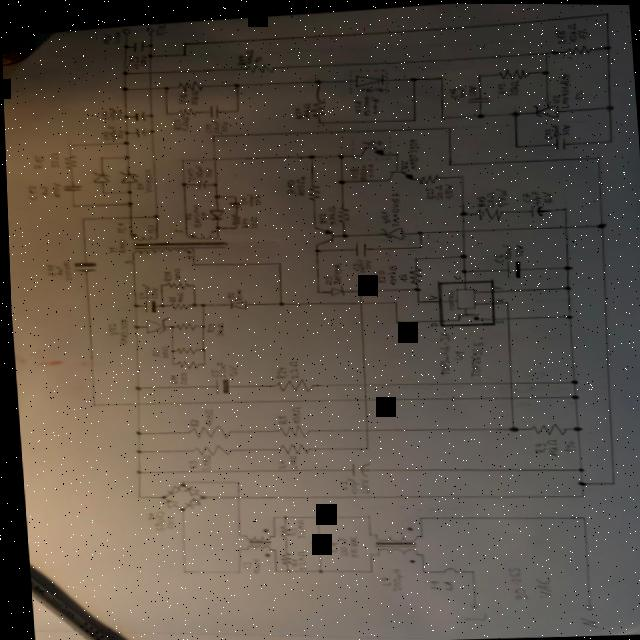capacitor: (343, 460, 366, 479), (70, 259, 98, 273), (208, 377, 228, 395), (501, 257, 519, 277), (350, 241, 366, 257), (140, 298, 155, 313), (305, 538, 323, 549), (551, 136, 566, 149), (59, 182, 80, 191), (131, 39, 145, 52), (464, 95, 490, 102), (526, 204, 541, 216), (206, 103, 218, 117), (132, 126, 146, 137), (131, 110, 145, 120), (194, 179, 205, 189), (225, 201, 239, 207)
crossover: (144, 84, 153, 90), (502, 378, 511, 384), (230, 493, 238, 499), (130, 400, 138, 406), (456, 227, 464, 233), (503, 393, 511, 399), (356, 396, 365, 401), (144, 69, 153, 74), (209, 155, 216, 161), (559, 222, 566, 228), (353, 300, 361, 305), (501, 314, 509, 319), (358, 426, 365, 431), (357, 381, 364, 386), (124, 214, 131, 219)
diode: (141, 315, 167, 334), (376, 225, 402, 240), (88, 170, 109, 184), (117, 169, 137, 183), (226, 297, 244, 310), (178, 496, 196, 508), (179, 483, 195, 496), (206, 208, 223, 220), (326, 284, 342, 296), (158, 497, 174, 508), (163, 485, 177, 495)
junction: (508, 108, 520, 116), (503, 423, 515, 431), (592, 220, 605, 227), (571, 478, 583, 485), (601, 103, 613, 110), (565, 392, 576, 399), (567, 423, 578, 430), (454, 252, 466, 258), (564, 377, 575, 383), (334, 178, 344, 184), (456, 210, 466, 216), (560, 263, 570, 269), (474, 112, 484, 118), (455, 267, 465, 273), (230, 81, 240, 87), (601, 43, 611, 49), (561, 312, 570, 318), (560, 283, 569, 289), (311, 78, 320, 84), (413, 229, 422, 235), (539, 69, 549, 74), (409, 286, 419, 291), (120, 154, 130, 159), (406, 75, 416, 80), (571, 466, 581, 471), (605, 137, 613, 143), (130, 429, 138, 435), (121, 42, 129, 48), (338, 231, 346, 237), (311, 567, 319, 573), (334, 153, 343, 158), (119, 86, 128, 91), (305, 153, 314, 158), (129, 385, 138, 390), (362, 568, 371, 573), (229, 568, 238, 573), (123, 200, 131, 205), (149, 213, 157, 218), (274, 301, 282, 306), (130, 469, 138, 474), (119, 70, 127, 75), (161, 85, 169, 90), (353, 288, 361, 293), (604, 479, 612, 484), (130, 448, 138, 453), (210, 194, 218, 199), (120, 140, 128, 145), (123, 189, 131, 194), (129, 302, 137, 307), (77, 216, 85, 221), (209, 181, 217, 186), (309, 514, 317, 519), (194, 494, 202, 499), (358, 445, 367, 449), (129, 324, 138, 328), (178, 181, 185, 186), (575, 513, 582, 518), (415, 568, 422, 573), (98, 189, 105, 194), (146, 128, 153, 133), (174, 506, 181, 511), (412, 515, 420, 519), (436, 115, 444, 119), (360, 514, 368, 518), (67, 203, 75, 207), (411, 299, 419, 303), (463, 569, 471, 573), (314, 119, 322, 123), (310, 248, 318, 252), (408, 117, 416, 121), (174, 482, 182, 486), (121, 113, 127, 118), (146, 52, 152, 57), (147, 42, 153, 47), (197, 302, 203, 307), (475, 72, 482, 76), (511, 143, 518, 147), (602, 11, 609, 15), (443, 125, 450, 129), (456, 174, 463, 178), (175, 568, 182, 572), (64, 142, 71, 146), (180, 52, 187, 56), (96, 155, 103, 159), (177, 158, 184, 162), (232, 108, 239, 112), (87, 402, 94, 406), (196, 347, 203, 351), (389, 300, 396, 304), (279, 568, 286, 572), (230, 479, 237, 483), (362, 551, 369, 555), (361, 531, 368, 535), (231, 545, 238, 549), (549, 49, 556, 53), (180, 41, 186, 45), (188, 262, 194, 266), (437, 75, 443, 79), (274, 260, 280, 264), (278, 514, 284, 518), (559, 206, 565, 210), (593, 155, 599, 159), (410, 255, 416, 259), (390, 319, 396, 323), (415, 244, 421, 248), (445, 161, 451, 165), (131, 494, 137, 498), (312, 289, 318, 293), (162, 111, 168, 115), (122, 130, 128, 134), (146, 113, 152, 117), (209, 133, 215, 137), (574, 492, 580, 496), (229, 193, 235, 197), (155, 494, 161, 498), (196, 323, 202, 327), (188, 302, 194, 306), (156, 303, 162, 307), (541, 50, 547, 54), (212, 225, 218, 229), (232, 532, 238, 536), (165, 324, 171, 328), (391, 151, 397, 155), (266, 514, 271, 518), (502, 299, 507, 303), (175, 479, 181, 482), (166, 361, 172, 364), (413, 533, 419, 536), (268, 568, 274, 571), (266, 547, 272, 550), (156, 283, 160, 287), (167, 348, 171, 352), (187, 284, 192, 287), (230, 225, 235, 228), (414, 552, 419, 555), (198, 362, 202, 365), (267, 533, 271, 536)
resistor: (182, 423, 229, 439), (269, 378, 311, 393), (524, 421, 564, 435), (186, 443, 229, 456), (270, 441, 307, 454), (271, 424, 308, 437), (495, 66, 529, 79), (474, 206, 503, 220), (173, 79, 203, 92), (244, 62, 275, 74), (308, 97, 325, 117), (561, 43, 591, 54), (414, 172, 438, 184), (172, 358, 197, 369), (405, 266, 420, 284), (304, 182, 319, 200), (333, 205, 348, 222), (172, 320, 195, 331), (60, 154, 76, 169), (273, 550, 287, 565), (172, 345, 194, 354), (176, 107, 195, 117), (275, 524, 287, 538), (167, 301, 185, 310), (165, 281, 185, 289), (228, 213, 239, 225)
terminal: (461, 600, 476, 608), (577, 602, 589, 609), (119, 27, 129, 34), (143, 26, 153, 33)
text: (432, 329, 451, 375), (501, 564, 524, 600), (463, 340, 483, 377), (556, 71, 571, 107), (386, 191, 400, 225), (528, 574, 548, 597), (404, 138, 418, 169), (384, 566, 400, 590), (147, 509, 162, 531), (114, 317, 126, 344), (328, 261, 342, 283), (383, 264, 397, 285), (140, 168, 152, 192), (540, 438, 556, 456), (188, 203, 200, 227), (492, 186, 507, 205), (457, 610, 482, 621), (573, 615, 594, 628), (198, 408, 213, 426), (283, 359, 297, 378), (343, 535, 355, 557), (289, 518, 302, 538), (552, 27, 568, 43), (333, 535, 345, 556), (360, 93, 371, 115), (293, 175, 305, 195), (59, 259, 71, 279), (290, 549, 302, 569), (46, 150, 59, 168), (566, 21, 577, 42), (286, 405, 298, 424), (323, 205, 335, 224), (30, 154, 45, 169), (195, 454, 209, 470), (498, 242, 512, 258), (342, 476, 356, 492), (24, 184, 37, 201), (558, 439, 573, 453), (112, 237, 126, 252), (371, 267, 384, 283), (506, 78, 519, 94), (355, 477, 368, 493), (212, 360, 224, 377), (444, 289, 453, 311), (244, 558, 257, 573), (282, 178, 295, 193), (49, 182, 61, 198), (104, 322, 117, 336), (528, 440, 543, 452), (441, 182, 452, 198), (178, 116, 189, 132), (300, 101, 310, 118), (356, 162, 366, 179), (510, 242, 522, 256), (528, 189, 540, 203), (284, 454, 295, 469), (243, 48, 254, 63), (106, 124, 116, 140), (432, 183, 442, 199), (139, 282, 149, 298), (369, 97, 379, 113), (271, 365, 283, 378), (539, 190, 551, 203), (473, 193, 485, 206), (571, 88, 584, 100), (377, 209, 389, 222), (153, 23, 166, 35), (223, 363, 235, 376), (37, 183, 49, 196), (110, 30, 121, 44), (272, 413, 286, 424), (175, 370, 185, 385), (494, 81, 506, 93), (483, 190, 492, 206), (518, 190, 530, 202), (576, 26, 588, 38), (437, 579, 450, 590), (193, 165, 204, 178), (351, 99, 362, 112), (161, 514, 171, 528), (448, 349, 462, 359), (188, 90, 198, 104), (212, 321, 222, 335), (422, 186, 433, 198), (100, 32, 111, 44), (175, 93, 187, 104), (169, 118, 181, 129), (347, 166, 358, 178), (423, 578, 436, 588), (247, 215, 257, 228), (550, 122, 559, 136), (170, 266, 179, 280), (364, 163, 373, 177), (465, 84, 476, 95), (446, 87, 457, 98), (159, 270, 170, 281), (237, 216, 248, 227), (114, 221, 124, 233), (559, 123, 569, 135), (374, 575, 386, 585), (183, 458, 195, 468), (184, 168, 194, 180), (315, 211, 325, 223), (490, 252, 502, 262), (44, 263, 54, 275), (292, 106, 302, 118), (107, 107, 115, 121), (354, 258, 362, 272), (132, 55, 140, 69), (158, 345, 166, 359), (541, 127, 551, 138), (455, 85, 465, 96), (273, 459, 284, 469), (334, 478, 344, 489), (165, 372, 175, 383), (202, 322, 213, 332), (185, 417, 197, 426), (232, 287, 241, 299), (148, 286, 157, 298), (550, 93, 560, 103), (324, 541, 334, 551), (143, 223, 153, 233), (99, 130, 109, 140), (218, 121, 228, 131), (236, 54, 246, 64), (173, 291, 182, 302), (147, 347, 158, 356), (236, 560, 247, 569), (126, 54, 134, 66), (245, 193, 253, 205), (252, 192, 260, 204), (98, 109, 107, 119), (206, 368, 216, 377), (53, 265, 62, 275), (203, 166, 211, 177), (113, 109, 121, 120), (140, 54, 147, 66), (211, 120, 218, 132), (397, 159, 406, 168), (396, 272, 405, 281), (142, 511, 152, 519), (361, 258, 369, 268), (202, 123, 210, 133), (285, 526, 293, 536), (253, 54, 263, 62), (197, 211, 206, 219), (321, 275, 330, 283), (237, 195, 245, 204), (171, 226, 181, 233), (106, 246, 116, 253), (424, 293, 435, 299), (134, 181, 142, 189), (182, 212, 190, 220), (349, 261, 357, 269), (286, 558, 294, 566), (165, 295, 174, 302), (224, 290, 232, 297), (134, 291, 142, 298), (115, 129, 121, 138), (425, 321, 435, 326), (121, 259, 131, 264), (449, 274, 459, 279), (492, 297, 502, 301), (491, 284, 501, 288), (182, 254, 190, 258), (207, 229, 215, 233), (492, 319, 500, 323)
thyristor: (529, 102, 559, 119)
transformer: (126, 229, 225, 255), (368, 524, 414, 563), (238, 526, 268, 557)
transistor: (309, 225, 333, 245), (384, 169, 412, 181)
